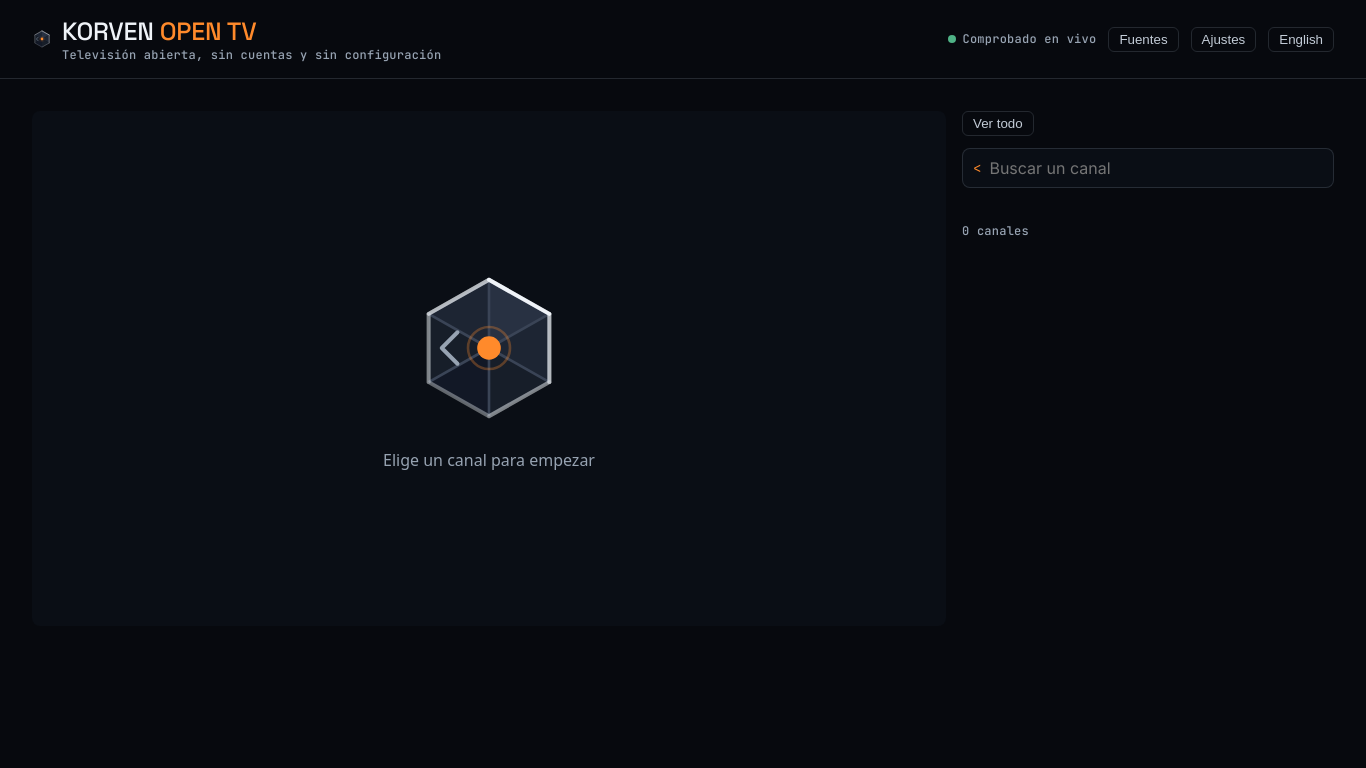
Scenario: App — vista Fuentes (gestión, Tarea 7 de P0.7) › (f) el botón «Fuentes» de la cabecera abre la vista y fija el hash #fuentes
Click the button "Fuentes" at {"x": 1144, "y": 39}, box x1=1108 y1=27 x2=1179 y2=52
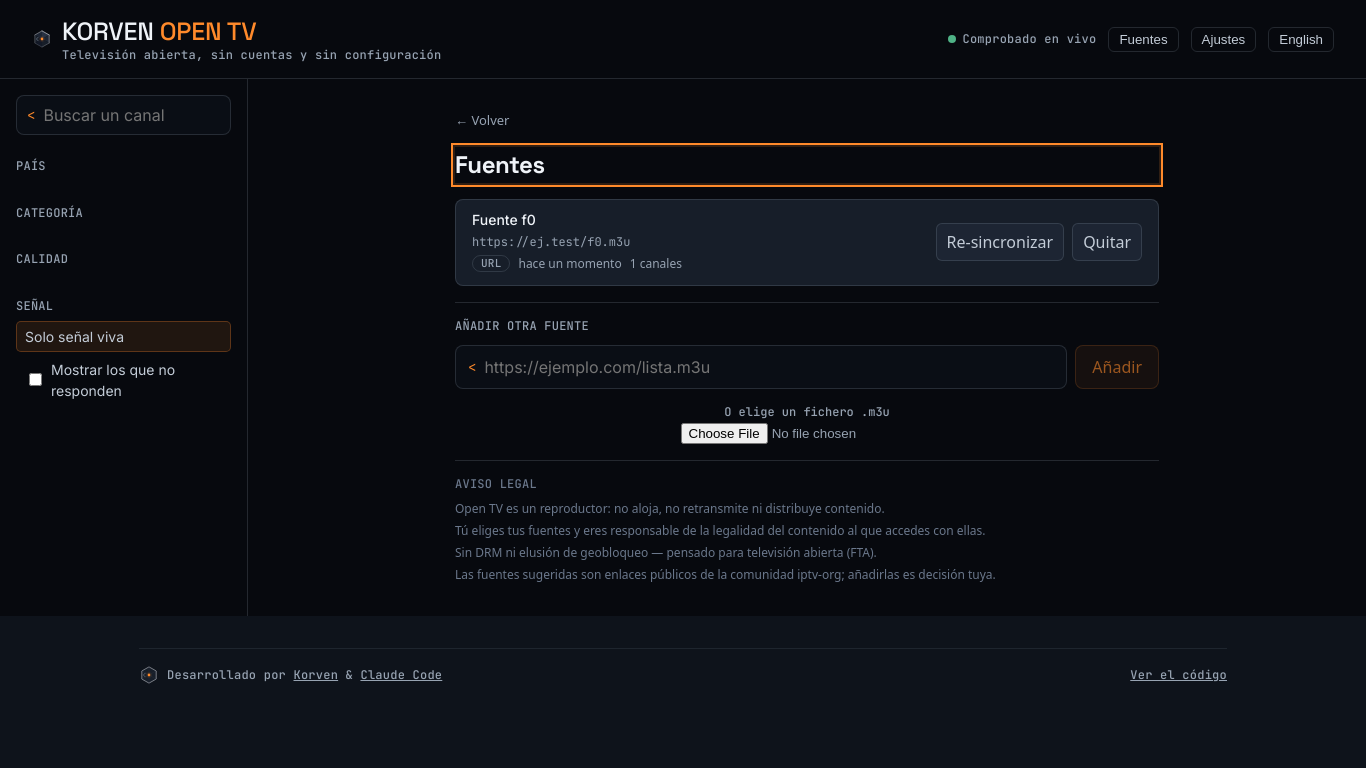
Result: the heading "Fuentes" is shown at x1=455 y1=147 x2=1159 y2=183
